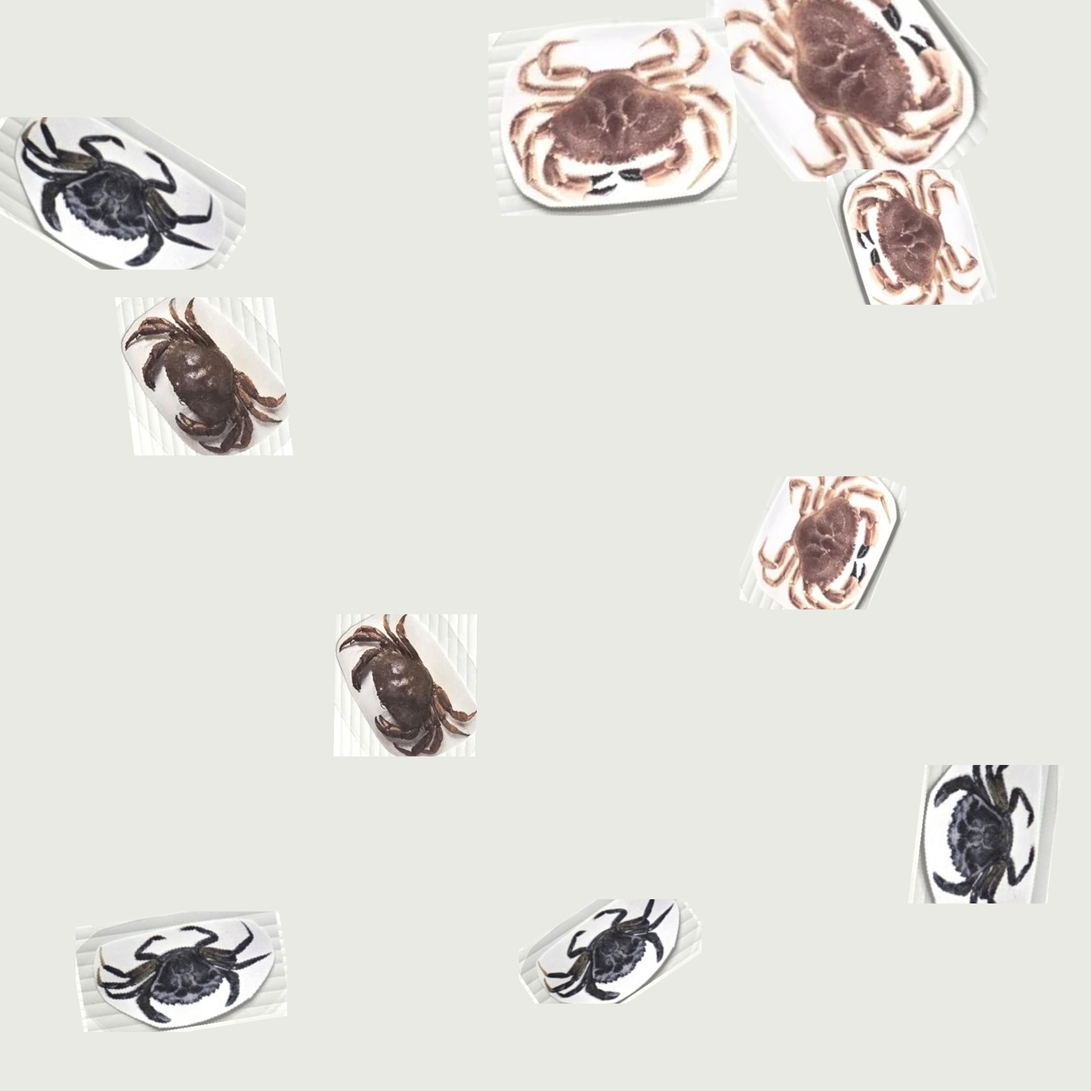evil: (16, 115, 259, 274), (76, 922, 302, 1032), (913, 760, 1057, 910), (515, 900, 696, 1005)
normal: (486, 24, 736, 205), (733, 9, 984, 171), (102, 298, 298, 452), (322, 598, 498, 765), (751, 467, 901, 612), (838, 179, 998, 305)
